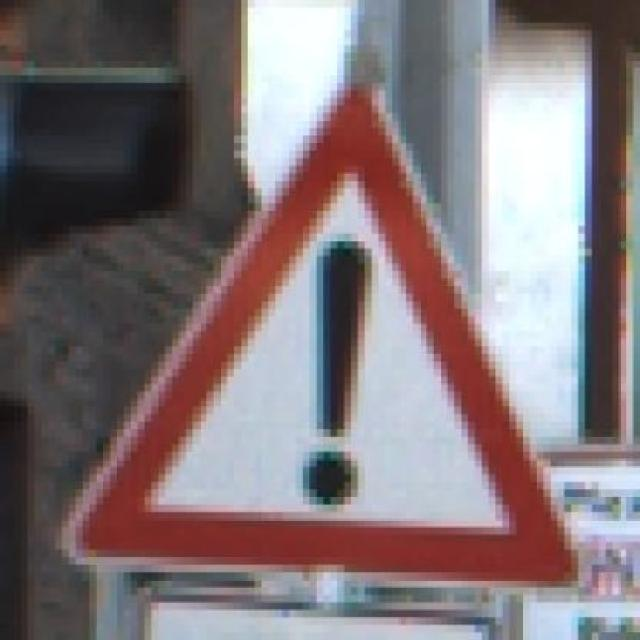Attention Please-: (54, 60, 586, 603)
